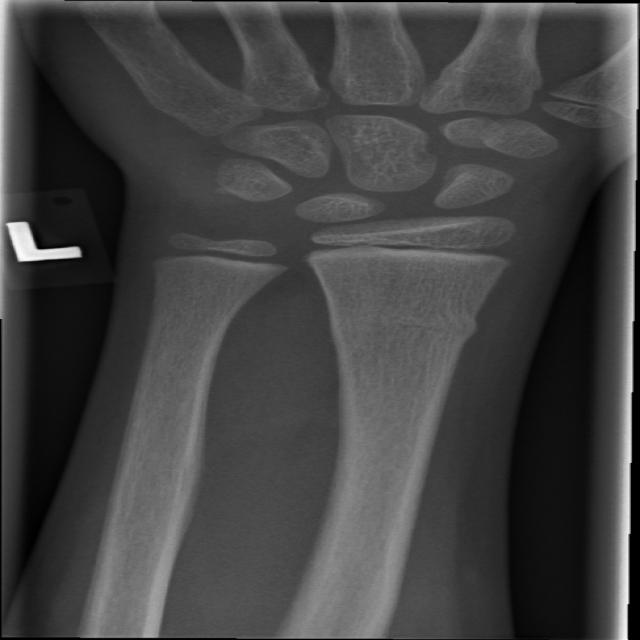radius fracture: (300, 283, 520, 392)
